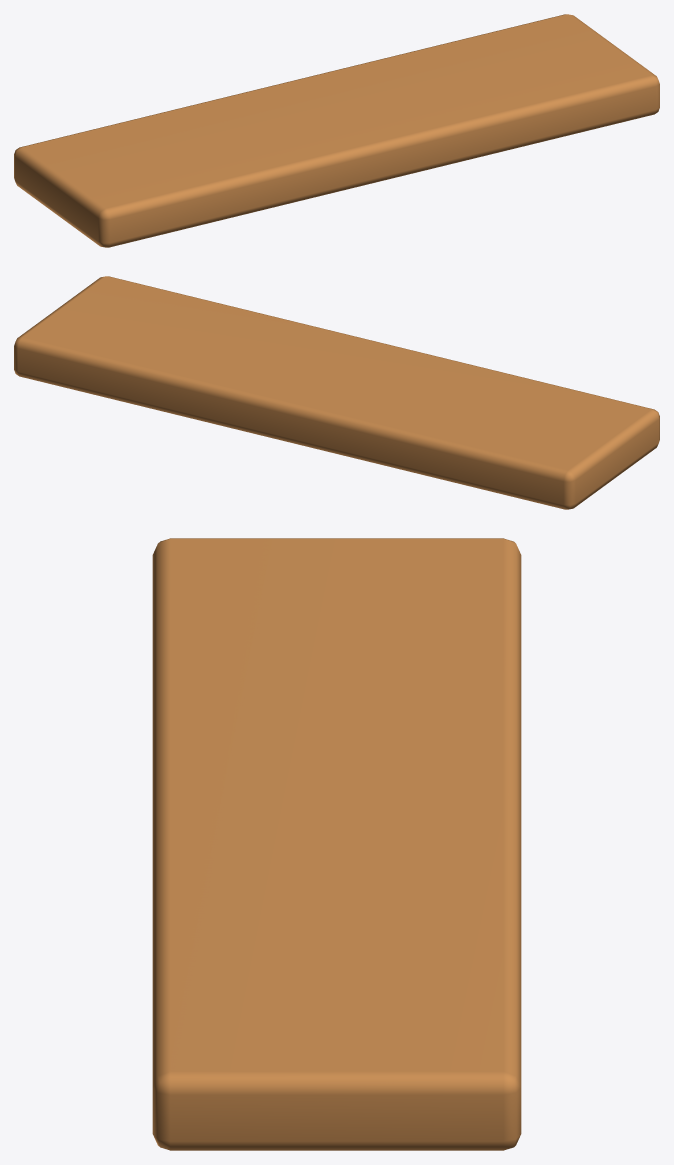
Rendered from SM_shelves.glb.
3 renders of one model, top to bottom at view 1: azimuth 30°, elevation 25°; view 2: azimuth 150°, elevation 25°; view 3: azimuth 270°, elevation 25°, orthographic. The views are drawn at different scales.
Parts seen in each view (by area): view 1: SM_shelves; view 2: SM_shelves; view 3: SM_shelves.
Part boxes in pixels (x1=…): SM_shelves: x1=14, y1=14, x2=659, y2=247; SM_shelves: x1=14, y1=276, x2=659, y2=509; SM_shelves: x1=152, y1=538, x2=521, y2=1150.
Bounding box in the file's own units: 1.45 × 0.097 × 0.4124.
Materials: 1 (1 with a texture image).
